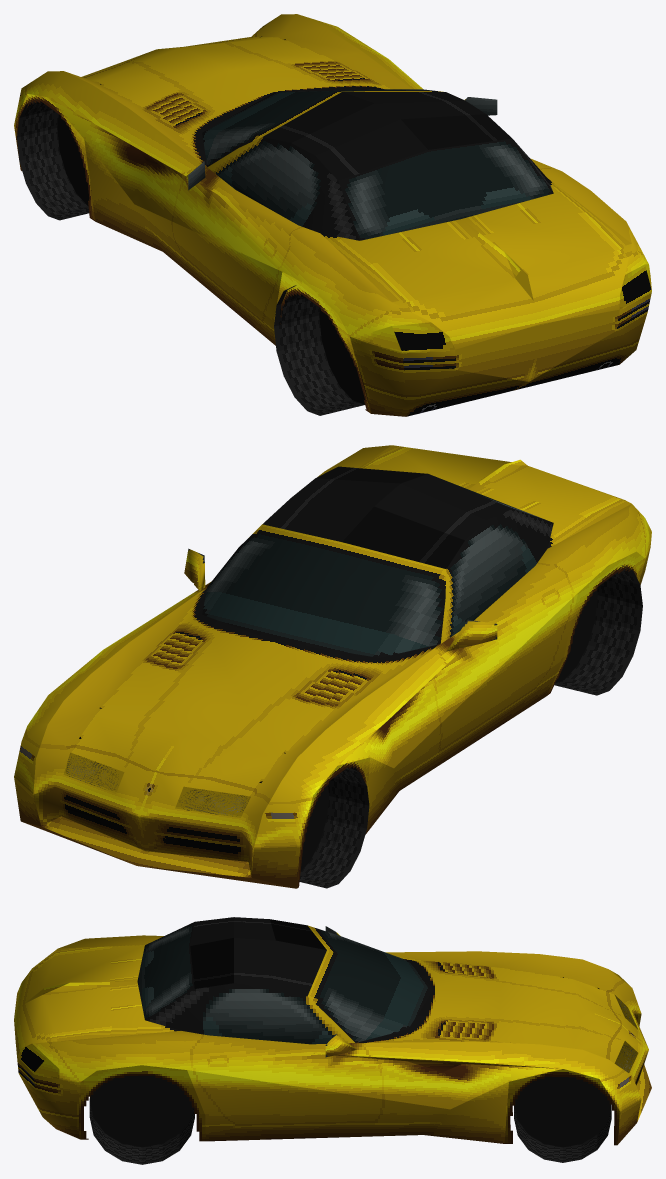
File: GT_SIMULATION__D_PHR.glb
3 renders of one model, top to bottom at view 1: azimuth 30°, elevation 25°; view 2: azimuth 150°, elevation 25°; view 3: azimuth 270°, elevation 25°, orthographic. The views are drawn at different scales.
Parts seen in each view (by area): view 1: Native body LOD0, Native wheel 2, Native wheel 0; view 2: Native body LOD0, Native wheel 2, Native wheel 0; view 3: Native body LOD0, Native wheel 3, Native wheel 1.
Boxes of the visible parts, bbox=[...] form: Native body LOD0: bbox=[14, 14, 651, 416]; Native wheel 2: bbox=[274, 285, 365, 415]; Native wheel 0: bbox=[17, 100, 89, 220]; Native body LOD0: bbox=[14, 445, 651, 888]; Native wheel 2: bbox=[554, 565, 642, 695]; Native wheel 0: bbox=[299, 767, 369, 888]; Native body LOD0: bbox=[14, 917, 651, 1145]; Native wheel 3: bbox=[89, 1075, 194, 1164]; Native wheel 1: bbox=[514, 1076, 611, 1162].
Bounding box in the file's own units: 1.88 × 1.24 × 4.24.
Materials: 11 (9 with a texture image).
